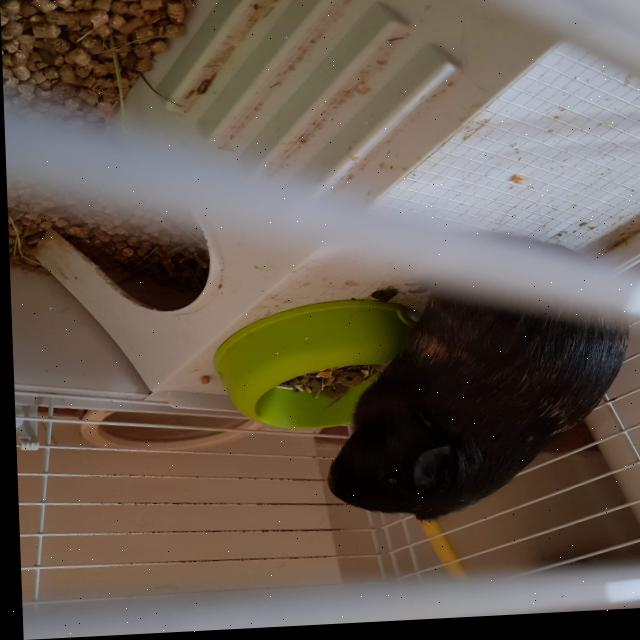guinea pig: (313, 225, 630, 531)
